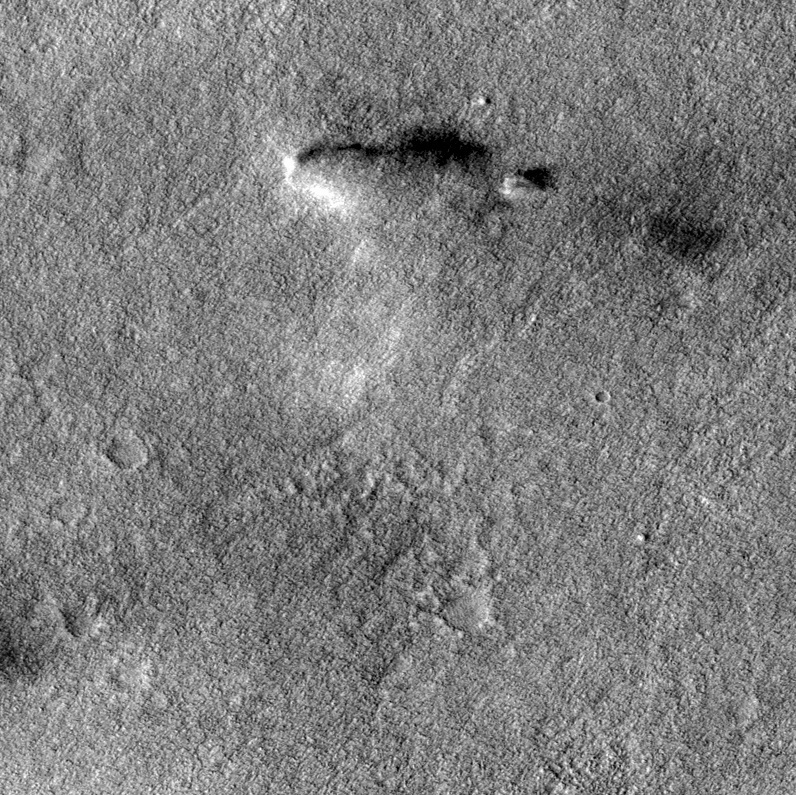dust_devil: (278, 120, 497, 224), (497, 165, 558, 201)
